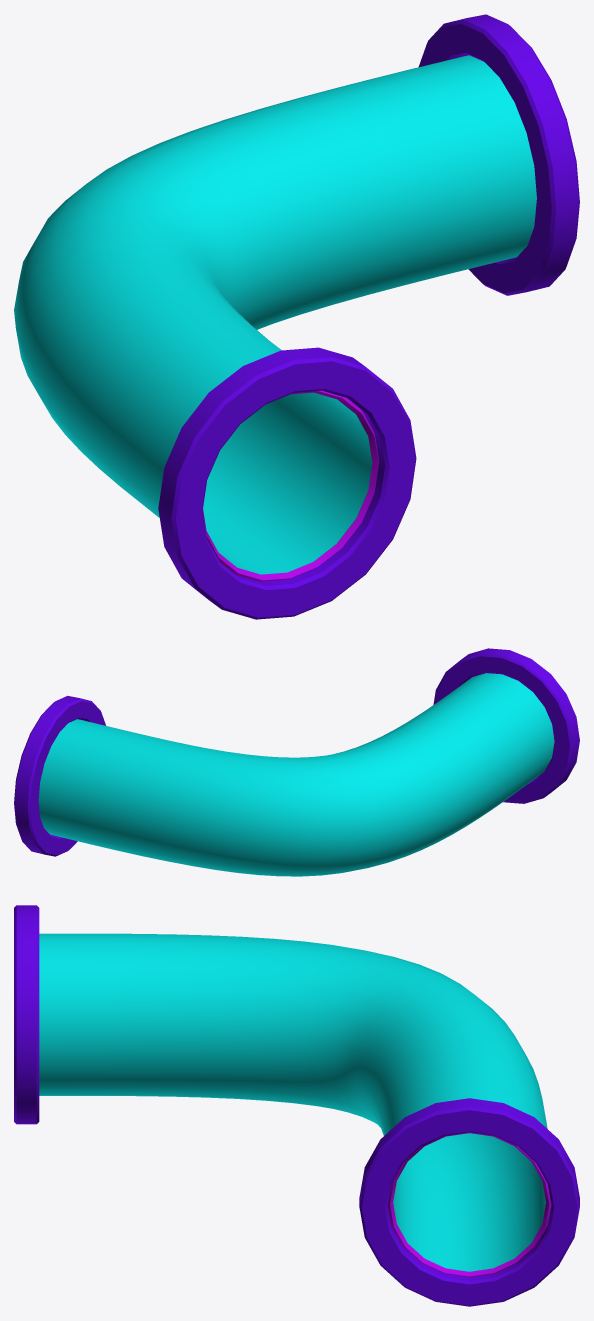
The model's file is Large 90.fbx.
The picture shows the model from 3 angles, top to bottom: view 1: azimuth 30°, elevation 25°; view 2: azimuth 150°, elevation 25°; view 3: azimuth 270°, elevation 25°; orthographic projection. The views are drawn at different scales.
Visible parts, largest first — view 1: SmartCombine_11; view 2: SmartCombine_11; view 3: SmartCombine_11.
Part boxes in pixels (x1=…): SmartCombine_11: x1=14, y1=14, x2=579, y2=619; SmartCombine_11: x1=14, y1=648, x2=579, y2=876; SmartCombine_11: x1=14, y1=905, x2=579, y2=1306.
Bounding box in the file's own units: 64.27 × 25 × 64.13.
